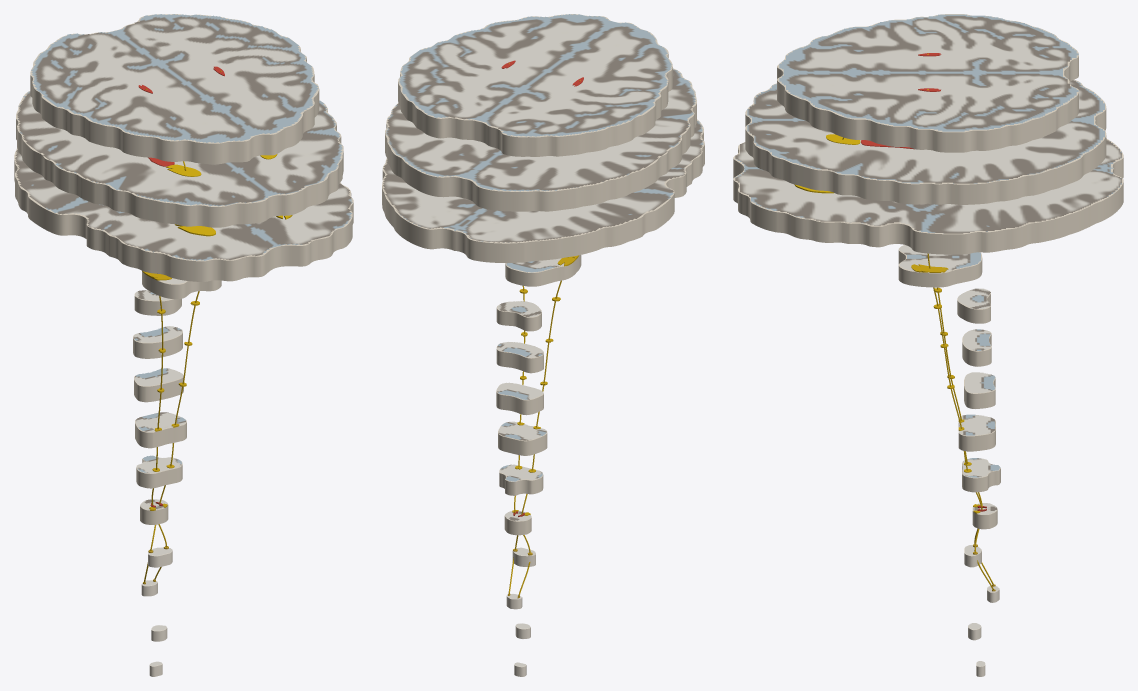
3 views of the same model, side by side, from view 1: azimuth 30°, elevation 25°; view 2: azimuth 150°, elevation 25°; view 3: azimuth 270°, elevation 25° (orthographic). The views are drawn at different scales.
Parts seen in each view (by area): view 1: L15·切面（灰白质）, L14·切面（灰白质）, L13·切面（灰白质）, L13·背景·丘脑内囊, L14·背景·放射冠, L15·背景·皮质上部, L11·背景·下丘, L07·背景·橄榄中部, L09·背景·脑桥中部, L08·背景·脑桥下部, L06·背景·丘系交叉, L10·背景·脑桥上部 (+4 smaller); view 2: L15·切面（灰白质）, L14·切面（灰白质）, L13·切面（灰白质）, L13·背景·丘脑内囊, L14·背景·放射冠, L15·背景·皮质上部, L11·背景·下丘, L07·背景·橄榄中部, L09·背景·脑桥中部, L08·背景·脑桥下部, L10·背景·脑桥上部, L06·背景·丘系交叉 (+6 smaller); view 3: L15·切面（灰白质）, L14·切面（灰白质）, L13·切面（灰白质）, L13·背景·丘脑内囊, L14·背景·放射冠, L15·背景·皮质上部, L11·背景·下丘, L11·切面（灰白质）, L07·切面（灰白质）, L07·背景·橄榄中部, L06·背景·丘系交叉, L08·切面（灰白质）.
Boxes of the visible parts, bbox=[...] form: L15·切面（灰白质）: bbox=[31, 14, 318, 142]; L14·切面（灰白质）: bbox=[17, 91, 342, 206]; L13·切面（灰白质）: bbox=[15, 150, 352, 260]; L13·背景·丘脑内囊: bbox=[14, 148, 353, 281]; L14·背景·放射冠: bbox=[16, 91, 343, 227]; L15·背景·皮质上部: bbox=[30, 14, 319, 164]; L11·背景·下丘: bbox=[142, 271, 221, 299]; L07·背景·橄榄中部: bbox=[135, 413, 186, 448]; L09·背景·脑桥中部: bbox=[133, 329, 182, 358]; L08·背景·脑桥下部: bbox=[134, 373, 183, 402]; L06·背景·丘系交叉: bbox=[136, 458, 182, 488]; L10·背景·脑桥上部: bbox=[134, 293, 181, 315]; L15·切面（灰白质）: bbox=[399, 14, 671, 136]; L14·切面（灰白质）: bbox=[385, 68, 695, 191]; L13·切面（灰白质）: bbox=[383, 121, 703, 242]; L13·背景·丘脑内囊: bbox=[382, 119, 704, 263]; L14·背景·放射冠: bbox=[385, 68, 696, 211]; L15·背景·皮质上部: bbox=[398, 14, 672, 156]; L11·背景·下丘: bbox=[505, 255, 581, 286]; L07·背景·橄榄中部: bbox=[498, 423, 547, 455]; L09·背景·脑桥中部: bbox=[496, 344, 543, 373]; L08·背景·脑桥下部: bbox=[496, 384, 543, 415]; L10·背景·脑桥上部: bbox=[496, 301, 541, 331]; L06·背景·丘系交叉: bbox=[499, 467, 543, 495]; L15·切面（灰白质）: bbox=[779, 14, 1078, 131]; L14·切面（灰白质）: bbox=[747, 80, 1104, 183]; L13·切面（灰白质）: bbox=[735, 138, 1121, 233]; L13·背景·丘脑内囊: bbox=[733, 139, 1123, 254]; L14·背景·放射冠: bbox=[745, 79, 1106, 204]; L15·背景·皮质上部: bbox=[777, 14, 1078, 152]; L11·背景·下丘: bbox=[898, 245, 982, 287]; L11·切面（灰白质）: bbox=[900, 245, 980, 272]; L07·切面（灰白质）: bbox=[959, 414, 995, 435]; L07·背景·橄榄中部: bbox=[958, 420, 995, 451]; L06·背景·丘系交叉: bbox=[962, 460, 1000, 492]; L08·切面（灰白质）: bbox=[965, 372, 995, 393].
Bounding box in the file's own units: 13.92 × 29.79 × 17.47.
